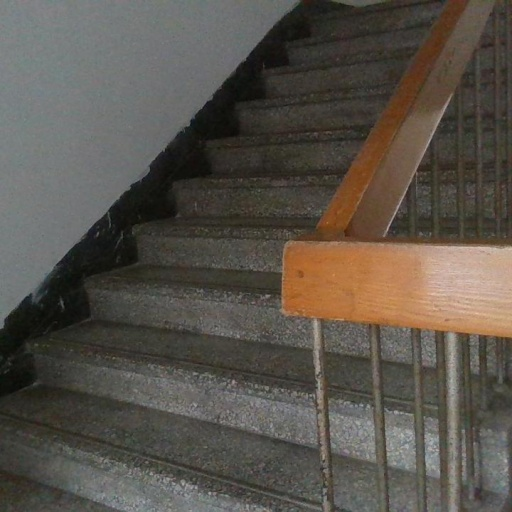Stairs: (1, 0, 443, 512), (326, 323, 376, 512)
